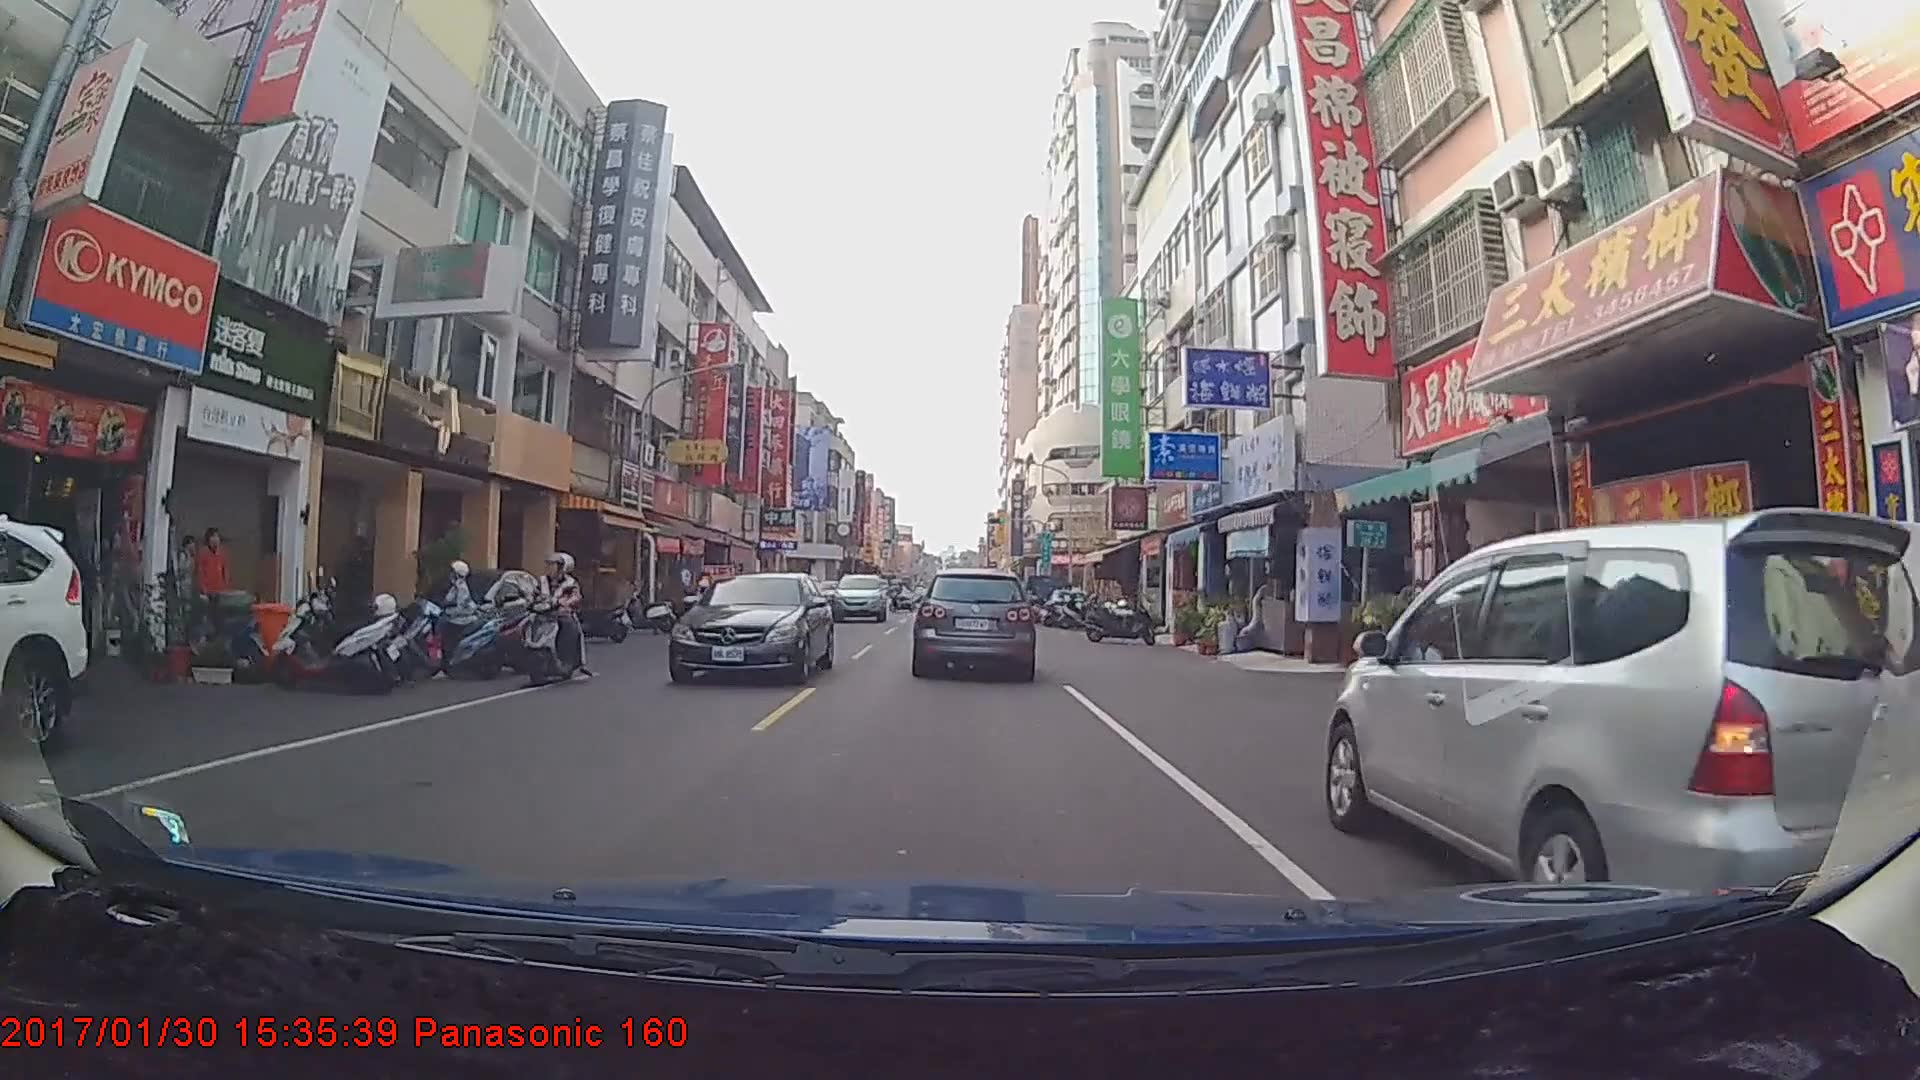pedestrian: (191, 521, 238, 642), (169, 523, 202, 639)
rider: (516, 545, 590, 689)
vehicle: (1326, 512, 1919, 935), (0, 510, 89, 767), (668, 571, 837, 686), (910, 568, 1035, 678), (831, 574, 886, 623)
